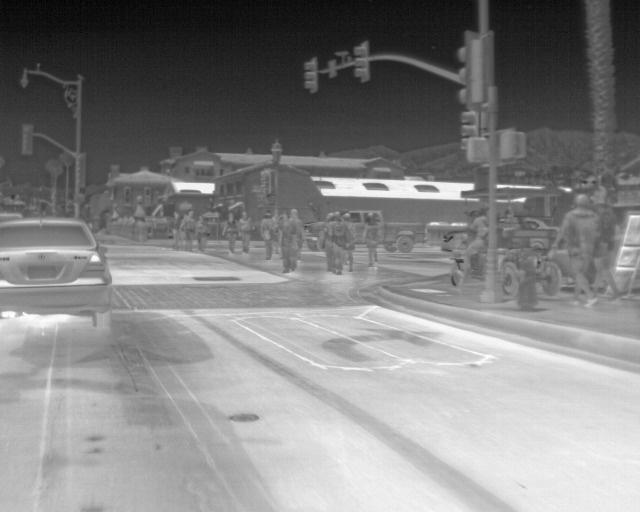bicycle: (0, 217, 115, 331), (385, 221, 427, 254), (441, 229, 468, 253), (306, 220, 326, 252), (524, 216, 559, 230)
empty: (550, 193, 604, 311), (458, 204, 493, 284), (340, 212, 358, 268), (364, 211, 382, 264), (234, 208, 253, 251), (259, 212, 276, 259), (286, 209, 303, 252), (222, 210, 238, 252), (176, 211, 194, 246), (194, 216, 210, 253)
